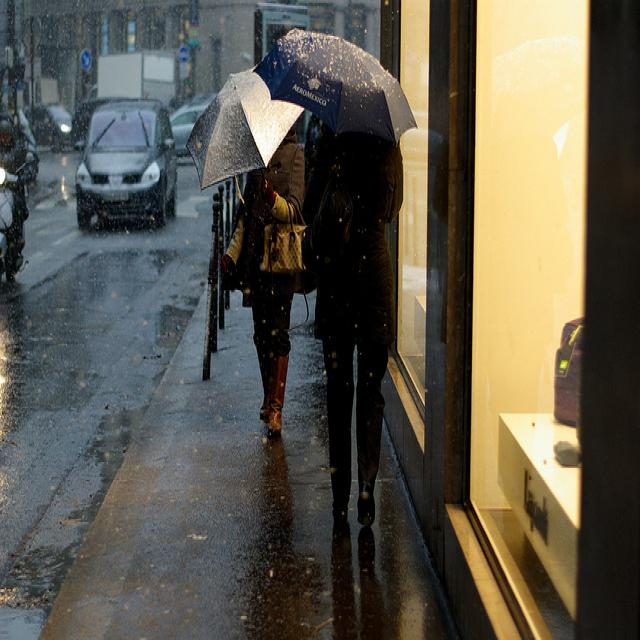motor: (1, 151, 36, 292)
